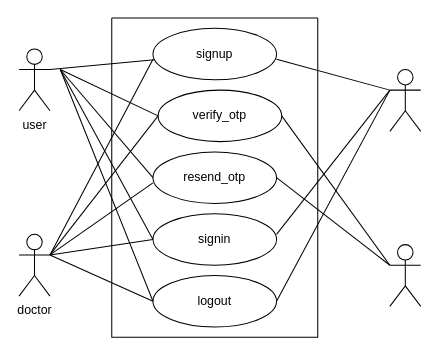
Image size: 448x355. Some labels were removed from this diagram. The centre of each missing label's shape, as x and y in pixels:
database: pixel 405 99
twilio api: pixel 405 275
